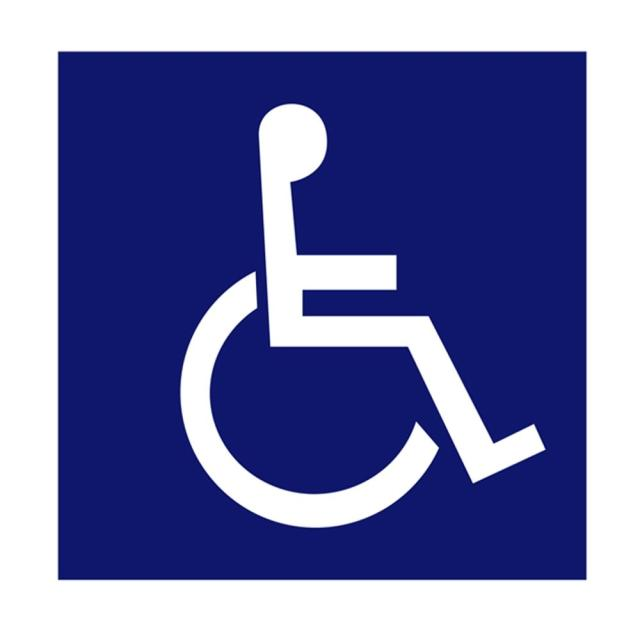symbol_of_access: (168, 92, 552, 542)
